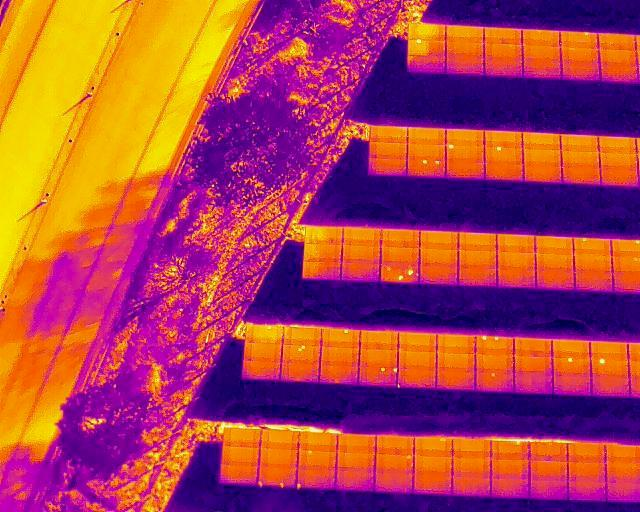Cell: (297, 467, 335, 488), (476, 371, 514, 391), (414, 437, 452, 456), (491, 442, 529, 460), (299, 450, 336, 468), (574, 238, 611, 255), (561, 30, 598, 47), (553, 358, 590, 375), (376, 454, 413, 471), (247, 327, 283, 344), (323, 330, 359, 347), (485, 146, 522, 162), (591, 358, 628, 374), (446, 145, 483, 160), (409, 40, 446, 55)
Cell-Multi: (380, 264, 419, 283), (257, 467, 296, 486), (359, 366, 396, 386), (407, 159, 445, 178), (476, 336, 513, 355), (283, 345, 319, 363)
No-Anomaly: (514, 372, 552, 394), (592, 374, 629, 396), (375, 471, 413, 492), (491, 459, 529, 480), (553, 374, 590, 395), (530, 461, 567, 482), (452, 475, 489, 496), (414, 473, 451, 494), (336, 470, 373, 491), (491, 478, 529, 498), (437, 334, 475, 354), (398, 368, 435, 388), (437, 370, 474, 390), (282, 362, 319, 382), (320, 364, 357, 384), (497, 269, 535, 288), (446, 159, 484, 178), (536, 270, 574, 289), (341, 263, 379, 282), (420, 231, 458, 250), (562, 61, 600, 80), (398, 332, 436, 351), (452, 458, 490, 477), (444, 56, 484, 74), (569, 462, 605, 482), (568, 482, 605, 501), (575, 272, 612, 291), (530, 481, 567, 500), (601, 63, 638, 82), (243, 361, 280, 380), (437, 352, 474, 371), (530, 443, 567, 462), (514, 338, 551, 357), (322, 347, 359, 366), (261, 449, 298, 468), (360, 331, 397, 350), (420, 267, 458, 285), (302, 261, 340, 279), (381, 229, 419, 247), (459, 232, 497, 250), (343, 228, 381, 246), (398, 351, 436, 369), (605, 481, 639, 501), (562, 150, 599, 168), (420, 249, 457, 267), (459, 268, 496, 286), (485, 162, 522, 180), (536, 236, 573, 254), (600, 152, 637, 170), (497, 234, 534, 252), (414, 456, 451, 474), (376, 436, 413, 454), (223, 447, 258, 466), (245, 343, 280, 362), (408, 54, 444, 72), (221, 466, 257, 484), (338, 435, 374, 453), (342, 245, 380, 262), (522, 132, 560, 149), (574, 255, 612, 272), (369, 157, 407, 174), (381, 247, 419, 264), (303, 244, 341, 261), (601, 170, 639, 187), (514, 356, 552, 373), (606, 463, 640, 482), (453, 440, 491, 457), (408, 128, 445, 145), (524, 61, 561, 78), (459, 250, 496, 267), (536, 254, 573, 271), (563, 167, 600, 184), (306, 227, 343, 244), (497, 252, 534, 269), (524, 165, 561, 182), (561, 135, 598, 152), (599, 136, 636, 153), (485, 59, 522, 76), (553, 340, 590, 357), (476, 354, 513, 371), (599, 33, 636, 50), (360, 349, 397, 366), (445, 40, 484, 56), (338, 452, 374, 469), (568, 445, 604, 462), (263, 432, 299, 449), (590, 341, 626, 358), (523, 149, 561, 165), (483, 27, 521, 43), (225, 430, 260, 447), (485, 130, 522, 146), (523, 45, 560, 61), (284, 328, 321, 344), (484, 43, 522, 58), (561, 46, 599, 61), (606, 446, 639, 463), (446, 25, 483, 40), (370, 127, 407, 142), (369, 143, 406, 158), (446, 129, 483, 144), (409, 24, 446, 39), (300, 434, 336, 449), (408, 144, 446, 158), (599, 49, 636, 63), (523, 32, 559, 46)
